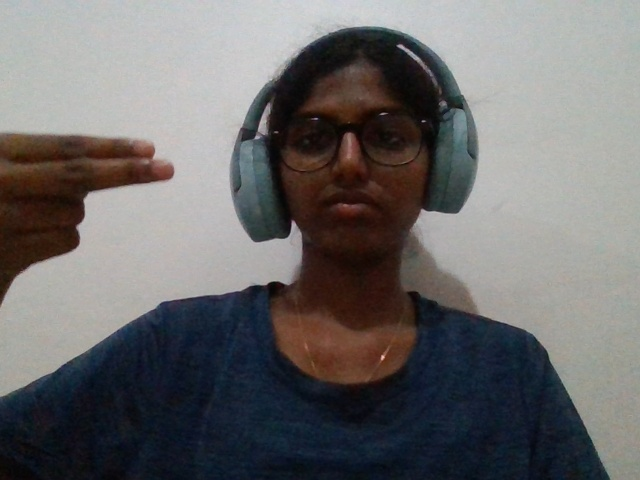H: (2, 112, 183, 374)
